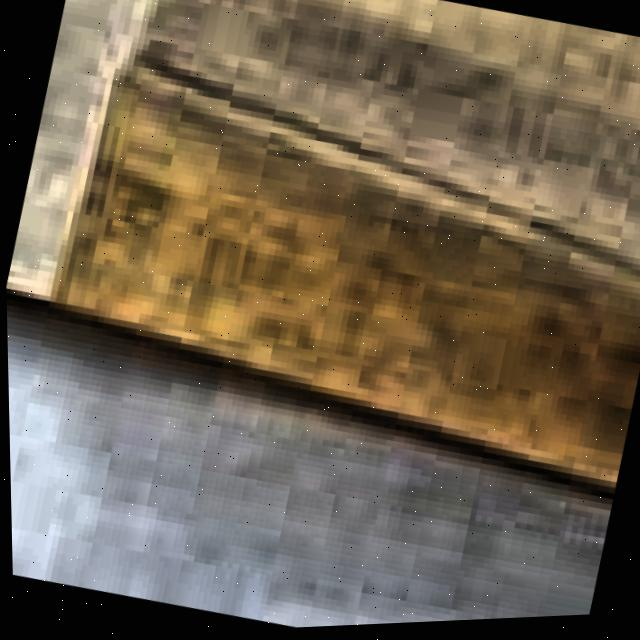paper: (5, 0, 640, 502)
